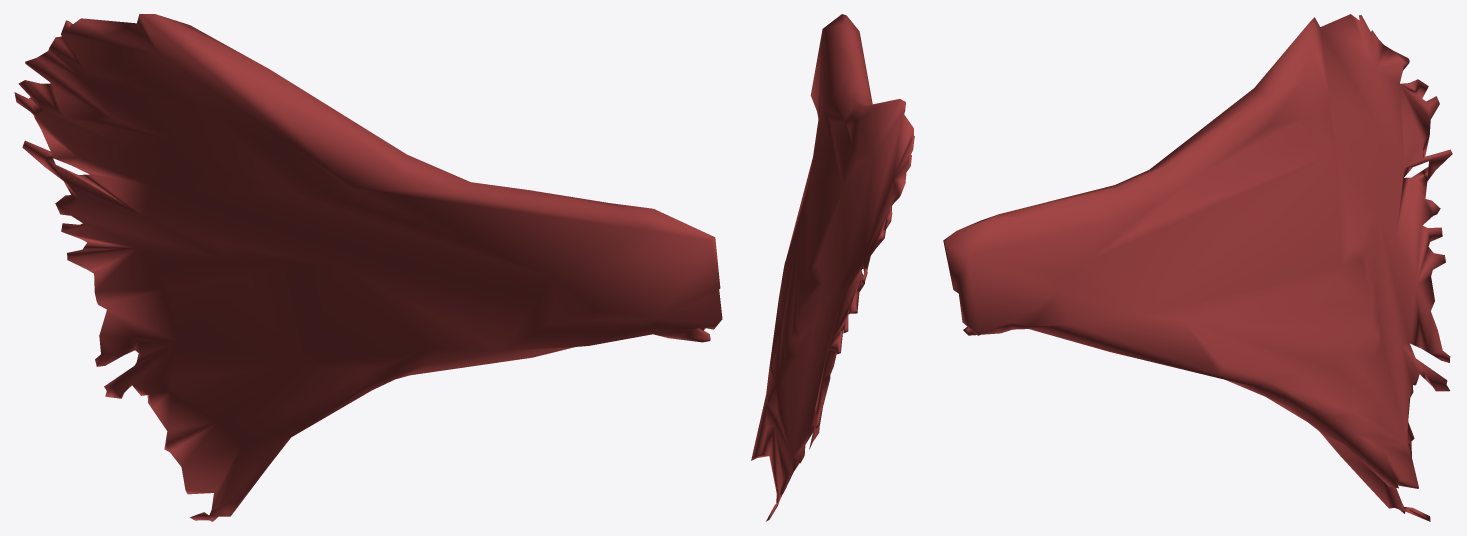
File: risorius-muscle-r.glb
The picture shows the model from 3 angles, left to right: view 1: azimuth 30°, elevation 25°; view 2: azimuth 150°, elevation 25°; view 3: azimuth 270°, elevation 25°; orthographic projection. The views are drawn at different scales.
Parts seen in each view (by area): view 1: Risorius muscle.r; view 2: Risorius muscle.r; view 3: Risorius muscle.r.
Part boxes in pixels (bbox=[...]): Risorius muscle.r: bbox=[14, 14, 722, 521]; Risorius muscle.r: bbox=[751, 14, 914, 521]; Risorius muscle.r: bbox=[943, 14, 1452, 521].
Bounding box in the file's own units: 0.0197 × 0.0272 × 0.0275.
